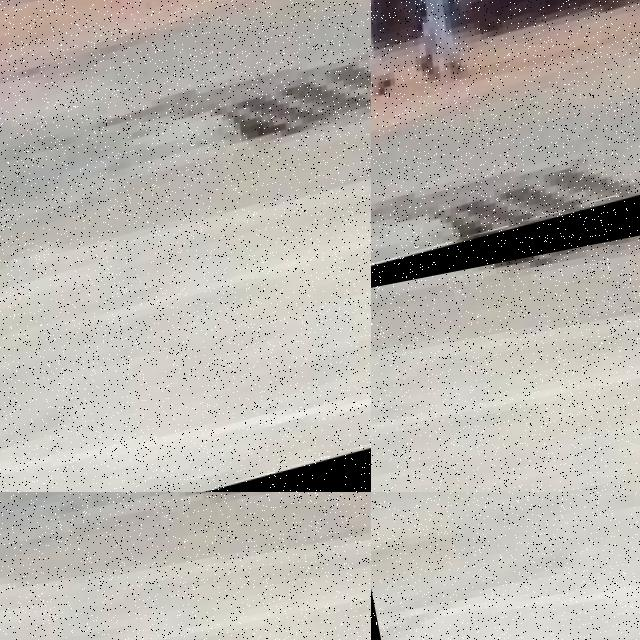0: (0, 0, 371, 492)
drone: (371, 0, 640, 343)
